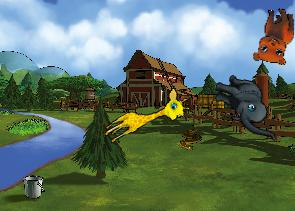bear: (252, 7, 294, 65)
elephant: (206, 72, 286, 141)
giraffe: (100, 84, 193, 154)
